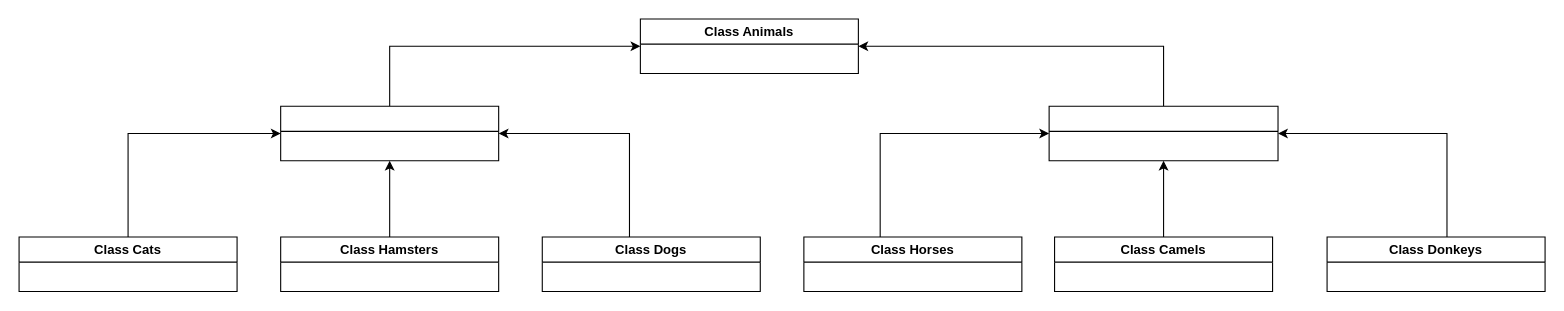
Some shapes in this 1564 by 311 pixel diagram are drawn without their labels. Each missing label, with the box of its shape:
Class PackAnimals: (1048, 105, 1278, 161)
Class Pets: (280, 105, 499, 161)
